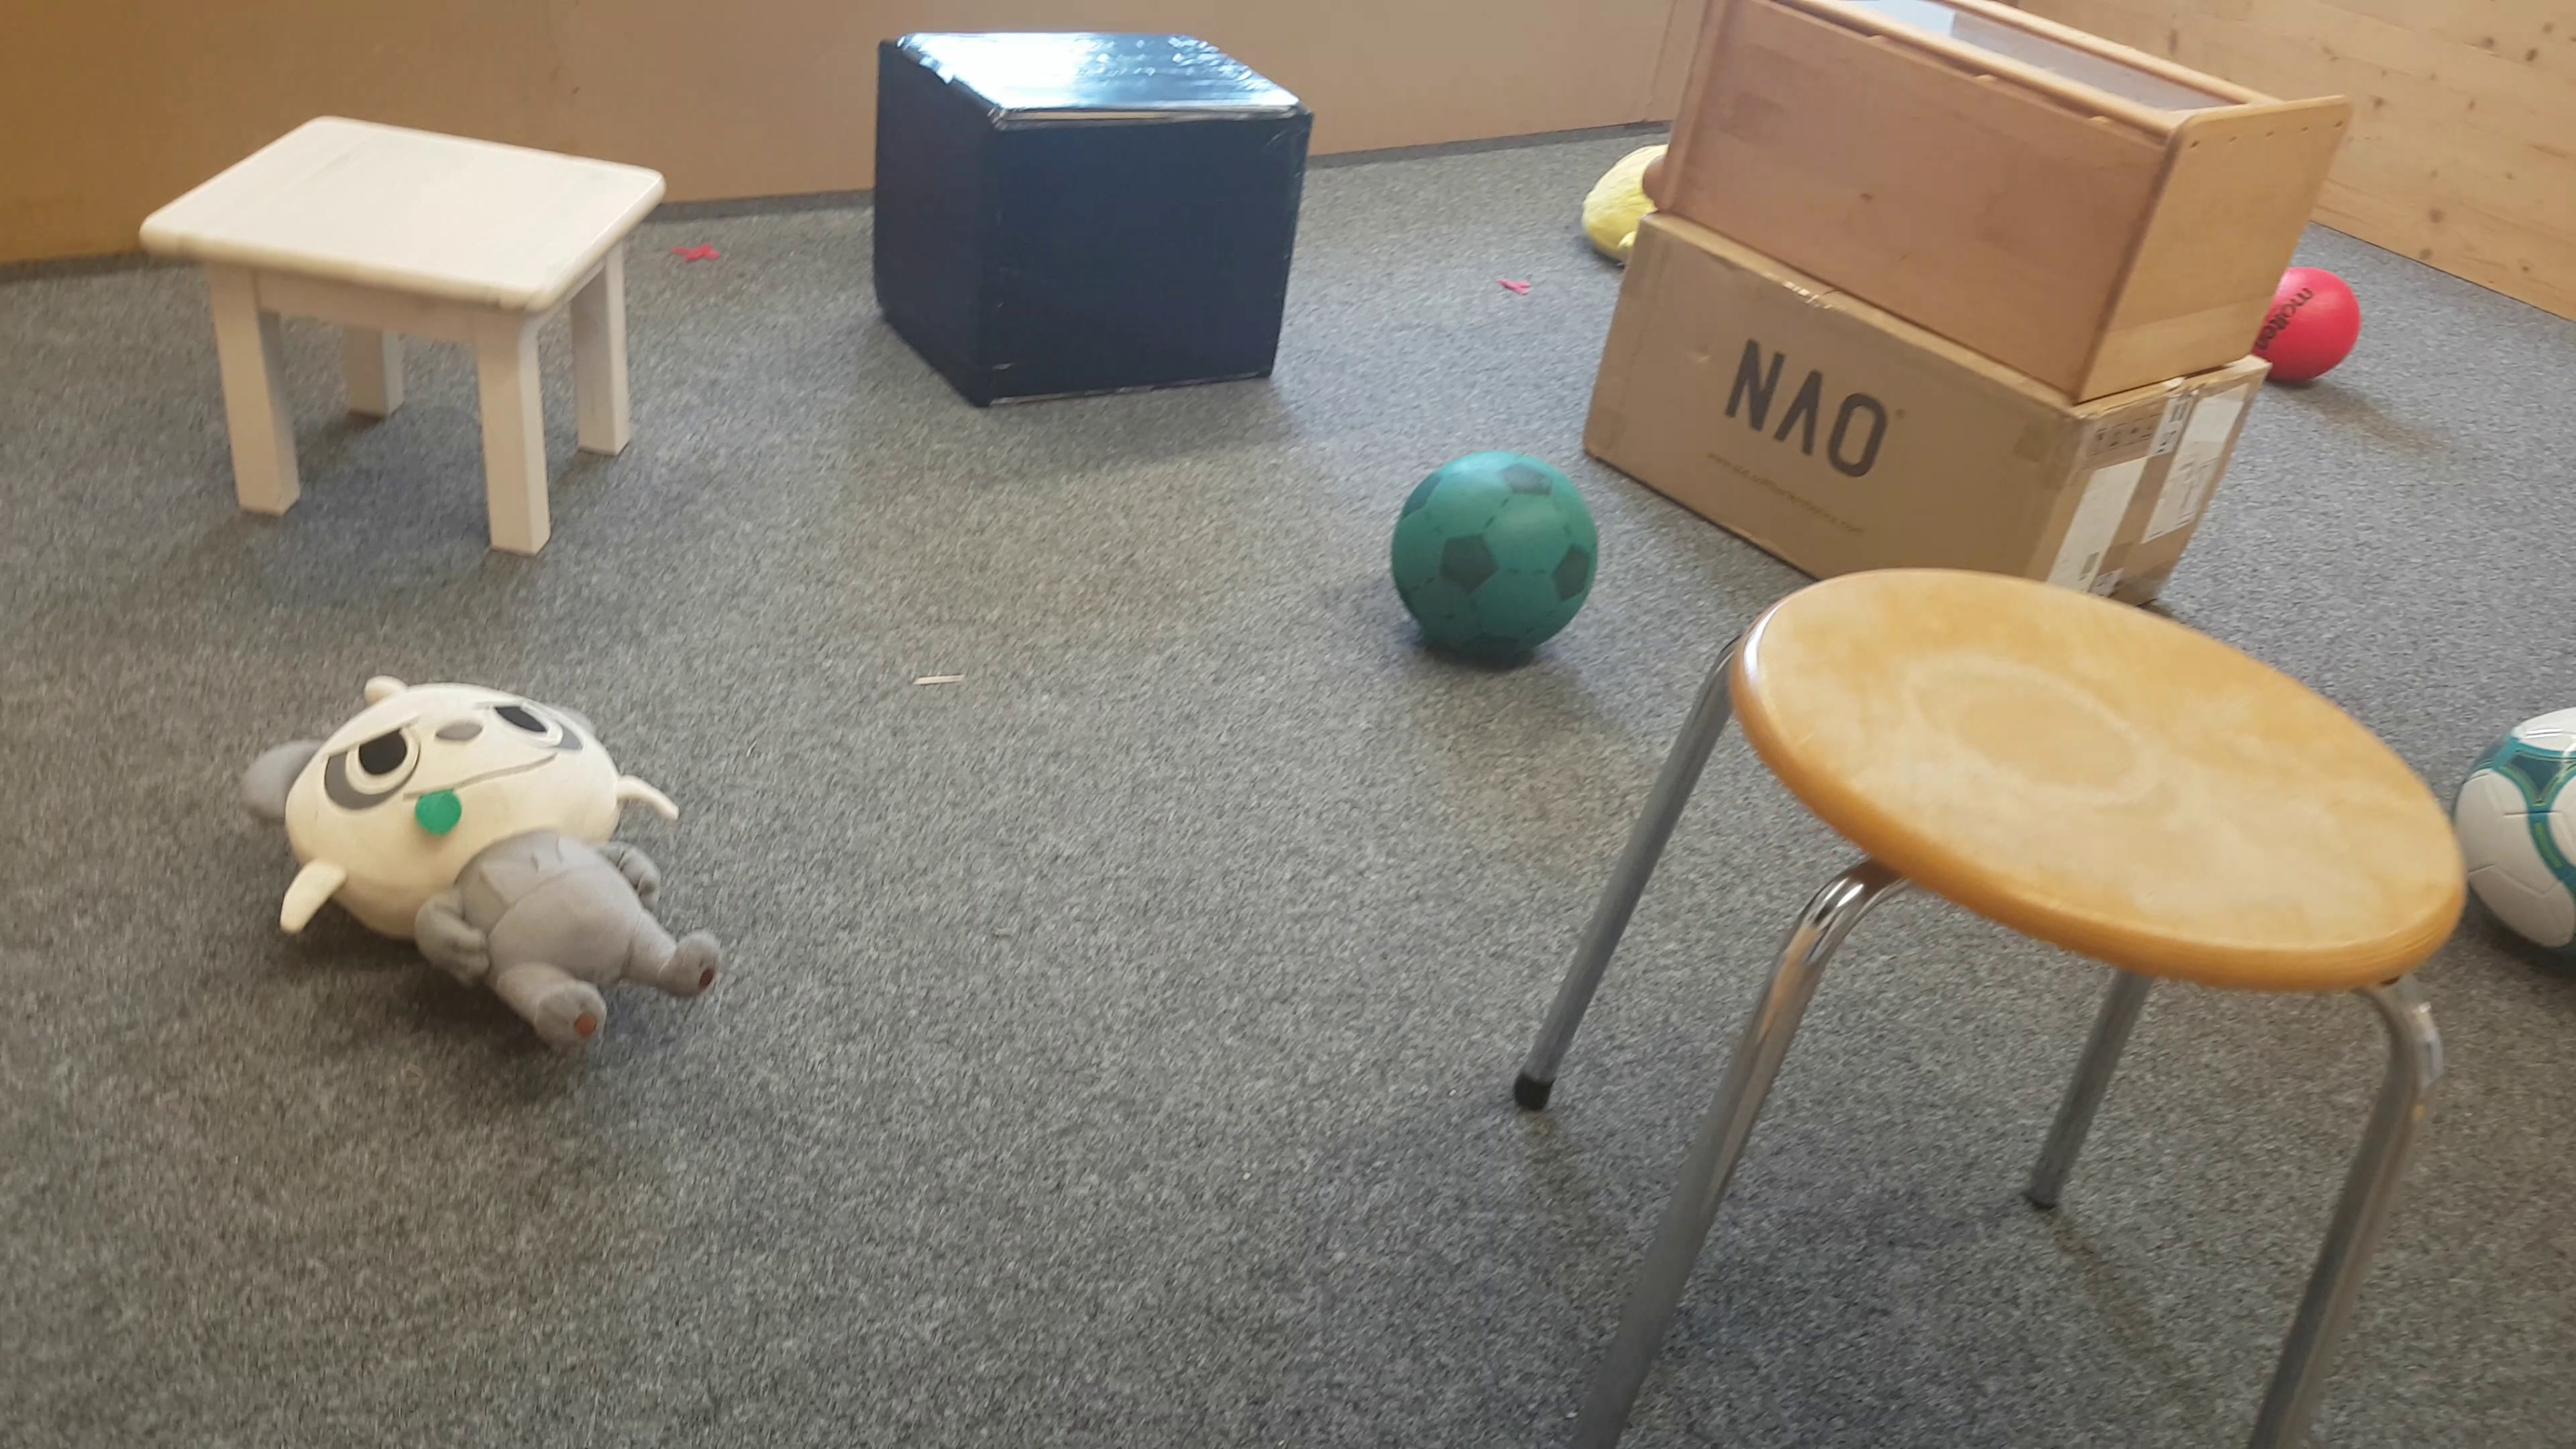grasp: (248, 679, 731, 1053), (1589, 134, 1654, 269)
kick: (1385, 448, 1598, 663), (2470, 697, 2576, 952), (2286, 269, 2355, 384)
push: (872, 14, 1313, 414)
